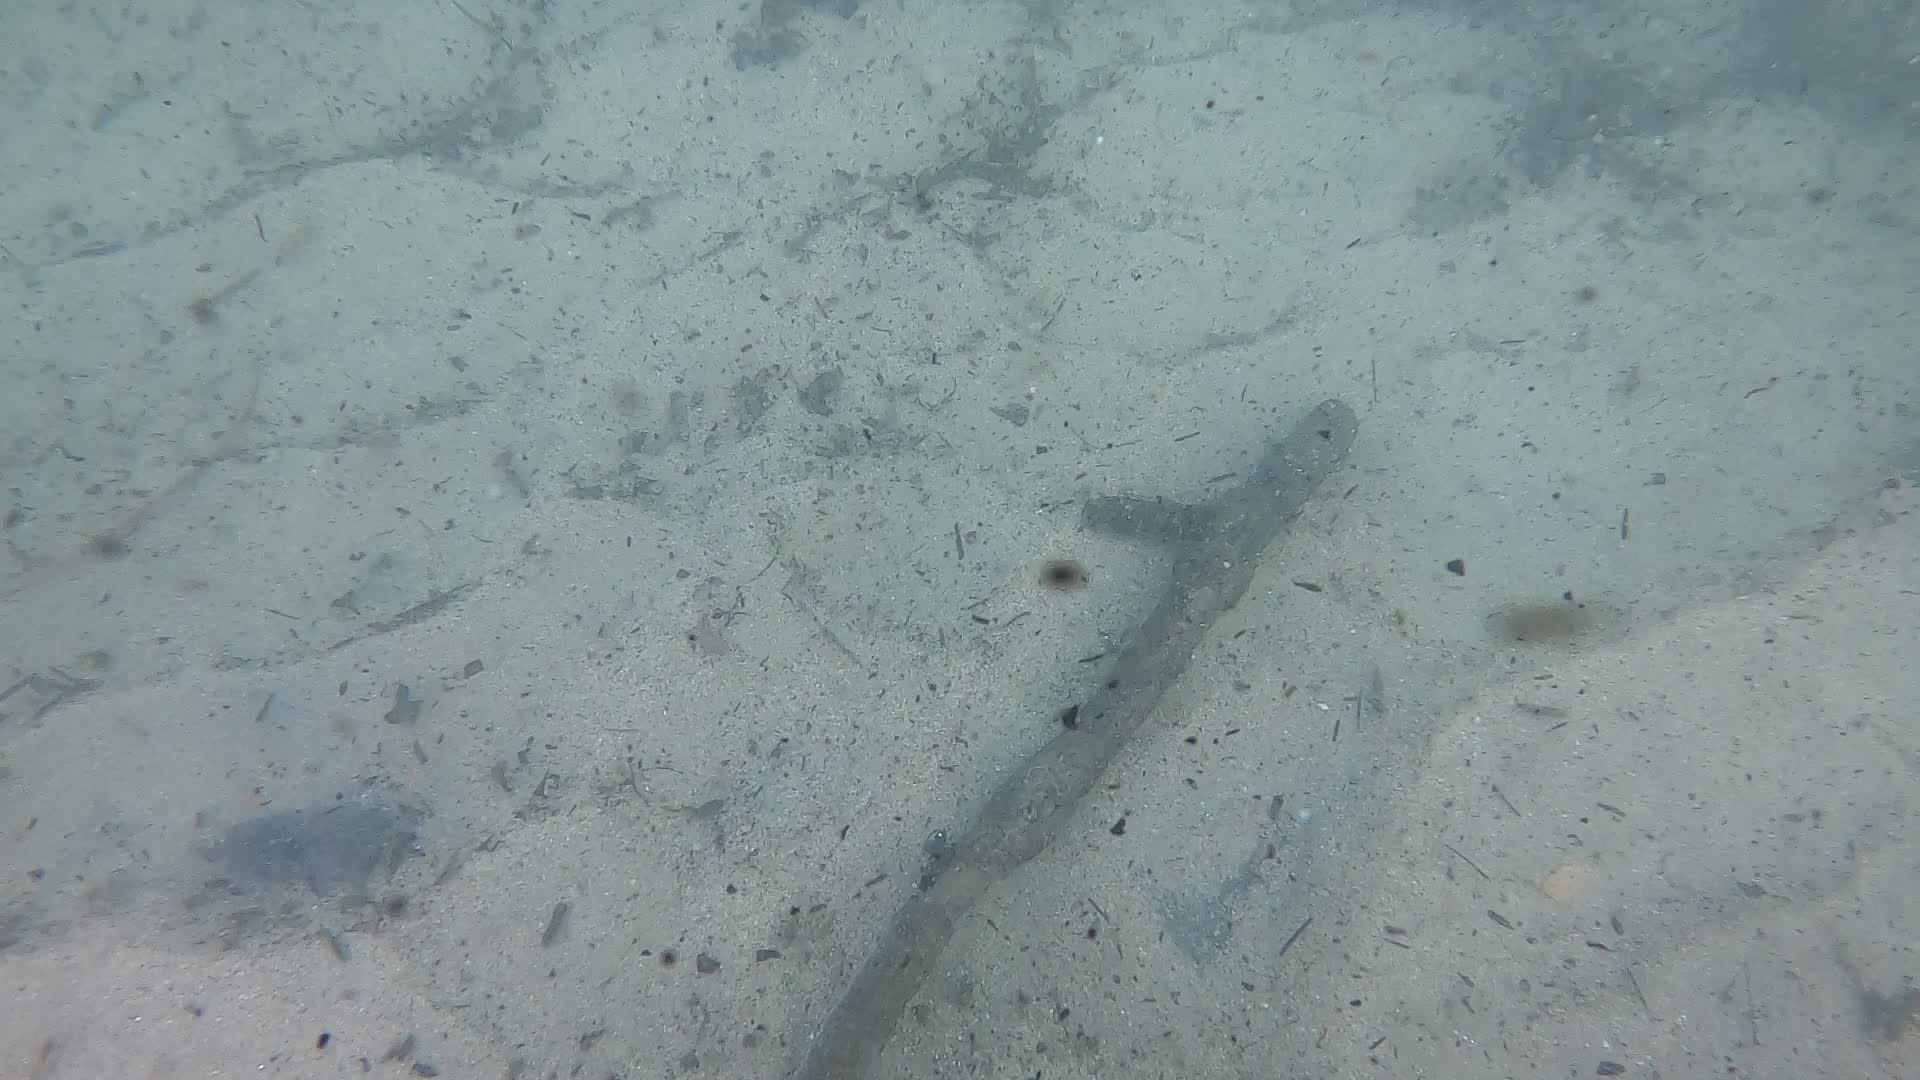wood: (796, 396, 1352, 1080)
